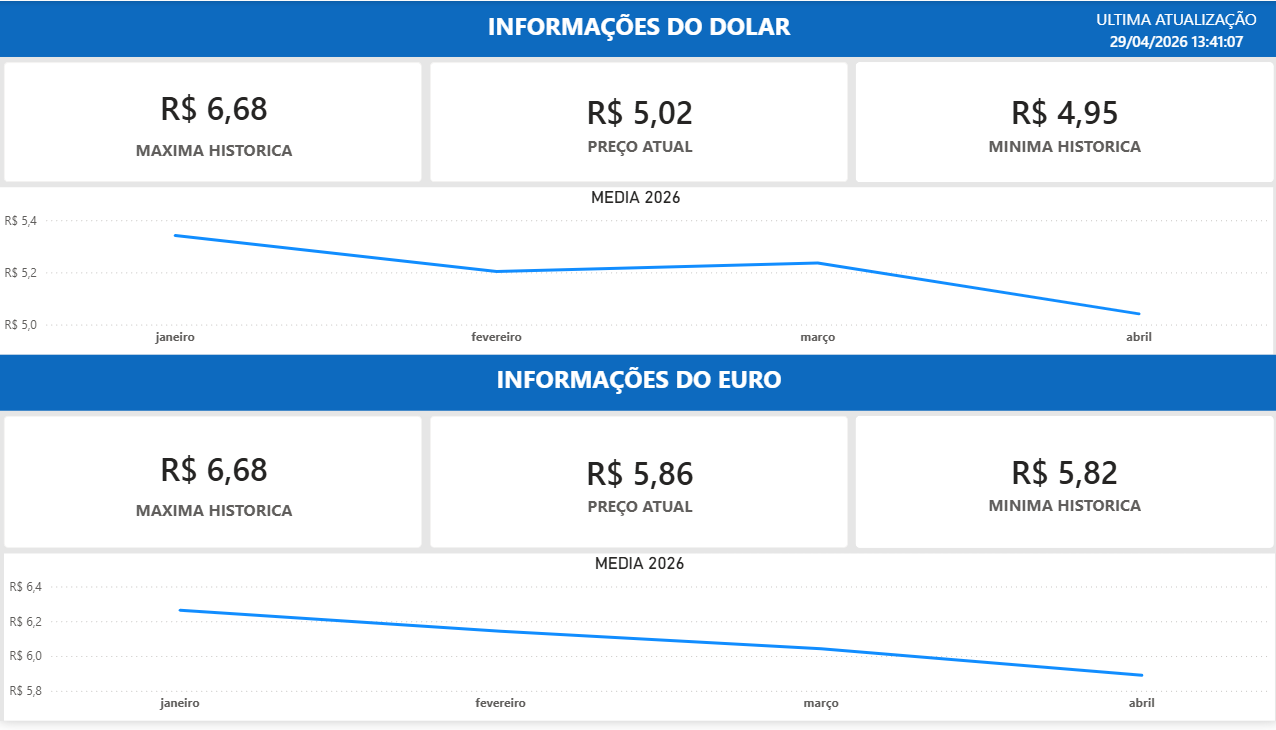

The dashboard page shown, as its layout file describes it:
{"tool":"powerbi","page":{"name":"Página 1","canvas":[1280,720],"ordinal":0},"visuals":[{"type":"textbox","box":[0,0,1280.3,56.3],"z":0},{"type":"cardVisual","fields":{"Data":["VW_ANALISE_MOEDAS.Maximo_Historico","VW_ANALISE_MOEDAS.Preco_Atual","VW_ANALISE_MOEDAS.Minima_Historica"]},"box":[0,56.3,1280.3,130],"z":1000},{"type":"lineChart","title":"MEDIA 2026","fields":{"Category":["VW_ANALISE_MOEDAS.DATA_REF.Variation.Hierarquia de datas.Mês"],"Y":["Avg(VW_ANALISE_MOEDAS.PRECO)"]},"box":[0,186.3,1274,167.5],"z":2000},{"type":"textbox","box":[0,353.8,1280.3,56.3],"z":3000},{"type":"cardVisual","fields":{"Data":["VW_ANALISE_MOEDAS.Maximo_Historico","VW_ANALISE_MOEDAS.Preco_Atual","VW_ANALISE_MOEDAS.Minima_Historica"]},"box":[0,410.1,1280.3,142.5],"z":4000},{"type":"lineChart","title":"MEDIA 2026","fields":{"Category":["VW_ANALISE_MOEDAS.DATA_REF.Variation.Hierarquia de datas.Mês"],"Y":["Avg(VW_ANALISE_MOEDAS.PRECO)"]},"box":[5,552.6,1271.5,167.5],"z":5000},{"type":"cardVisual","fields":{"Data":["VW_ANALISE_MOEDAS.Ultima_Sincronizacao"]},"box":[1075.2,0,205,56.3],"z":5001}]}

Visuals, with their boxes in screenshot pixels (x1, y1, x2, y2), scaled from the page's 1280x720 canvas onto the 1276x730 screenshot:
textbox: Rect(0, 0, 1275, 57)
cardVisual - VW_ANALISE_MOEDAS.Maximo_Historico x VW_ANALISE_MOEDAS.Preco_Atual: Rect(0, 57, 1275, 189)
"MEDIA 2026" lineChart: Rect(0, 189, 1270, 359)
textbox: Rect(0, 359, 1275, 416)
cardVisual - VW_ANALISE_MOEDAS.Maximo_Historico x VW_ANALISE_MOEDAS.Preco_Atual: Rect(0, 416, 1275, 560)
"MEDIA 2026" lineChart: Rect(5, 560, 1273, 729)
cardVisual - VW_ANALISE_MOEDAS.Ultima_Sincronizacao: Rect(1072, 0, 1275, 57)
